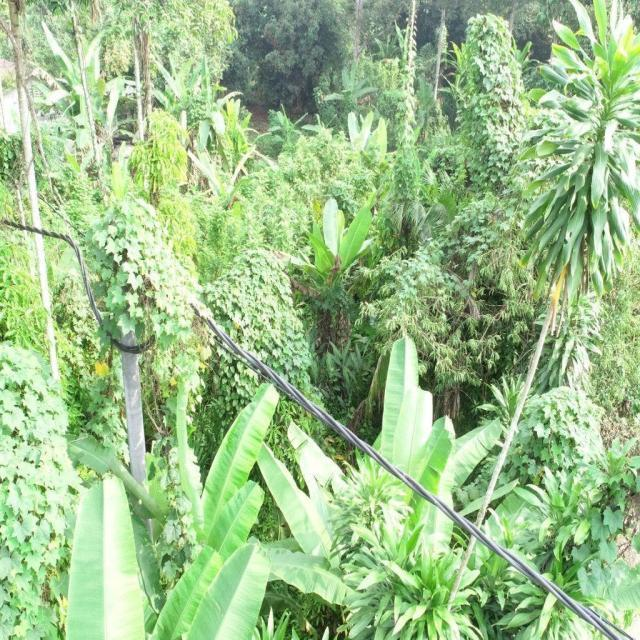critical vegetation: (62, 175, 206, 403)
